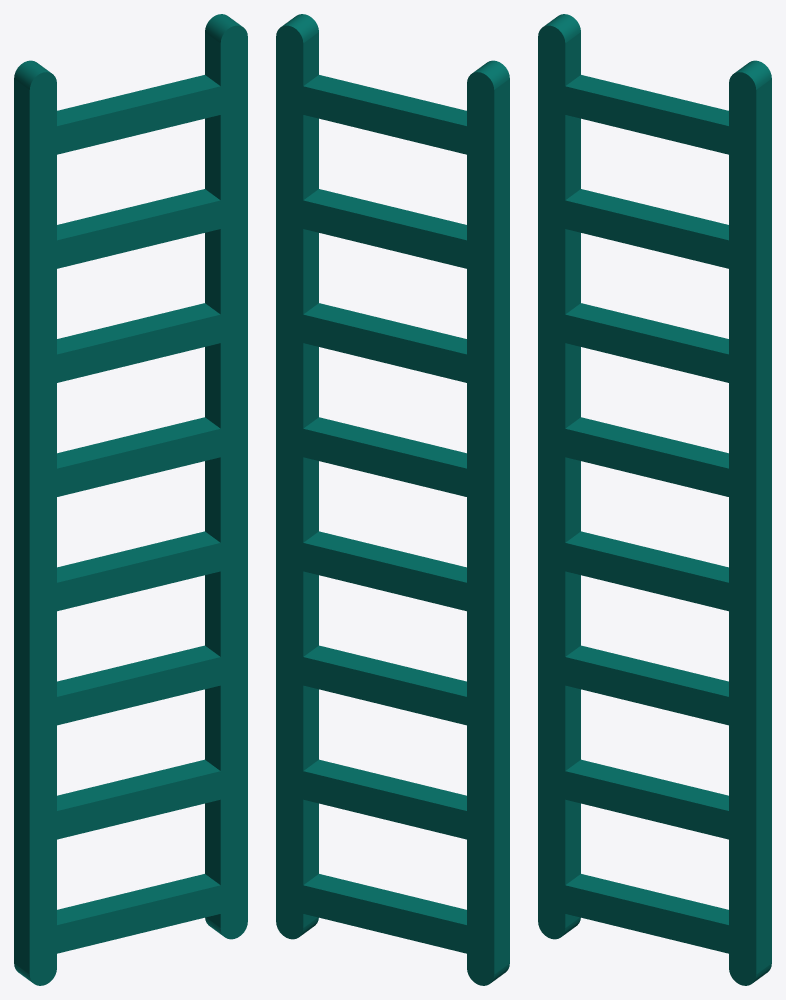
Rendered from ladder.glb.
3 views of the same model, side by side, from view 1: azimuth 30°, elevation 25°; view 2: azimuth 150°, elevation 25°; view 3: azimuth 330°, elevation 25° (orthographic).
Visible parts, largest first — view 1: generated(Clone); view 2: generated(Clone); view 3: generated(Clone).
Part boxes in pixels (x1,y1,x2,y2): generated(Clone): (14,14,247,985); generated(Clone): (276,14,509,985); generated(Clone): (538,14,771,985).
Size of the model in its own units: 0.8 by 3.2 by 0.1.
